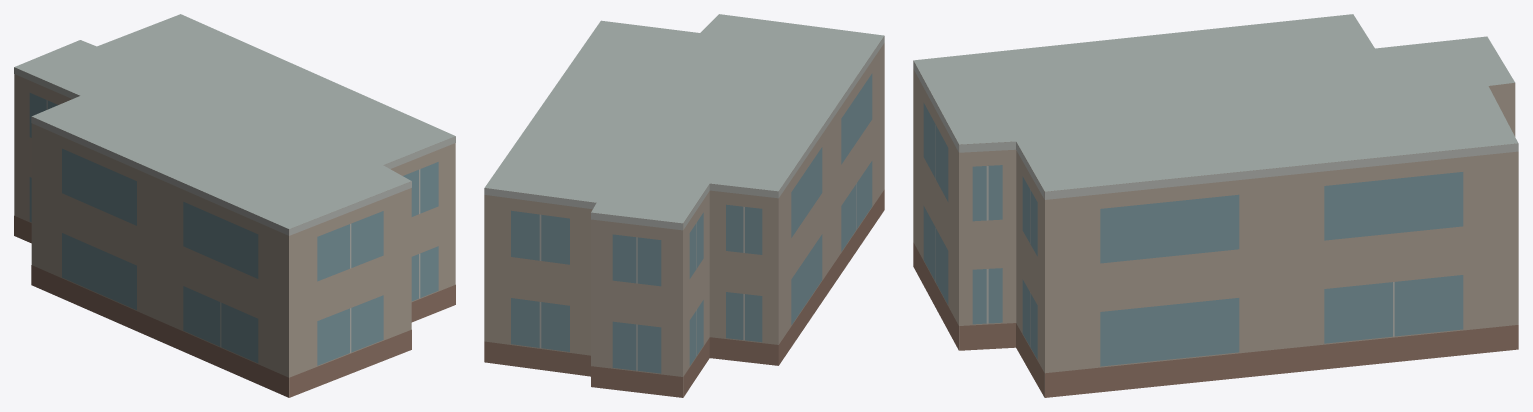
File: survey-upis-32716392.glb
The picture shows the model from 3 angles, left to right: view 1: azimuth 30°, elevation 25°; view 2: azimuth 150°, elevation 25°; view 3: azimuth 270°, elevation 25°; orthographic projection. The views are drawn at different scales.
Parts seen in each view (by area): view 1: survey-upis-32716392.tmp; view 2: survey-upis-32716392.tmp; view 3: survey-upis-32716392.tmp.
Boxes of the visible parts, <box> form: survey-upis-32716392.tmp: <box>14,14,455,397</box>; survey-upis-32716392.tmp: <box>484,14,884,397</box>; survey-upis-32716392.tmp: <box>913,14,1518,397</box>.
Bounding box in the file's own units: 11.29 × 6.1 × 16.24.
